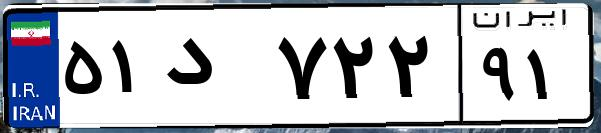1: (525, 38, 570, 115), (110, 28, 158, 98)
2: (385, 28, 445, 110), (330, 28, 385, 110)
5: (57, 26, 110, 100)
7: (270, 28, 330, 110)
9: (475, 38, 525, 113)
د: (158, 20, 270, 120)
